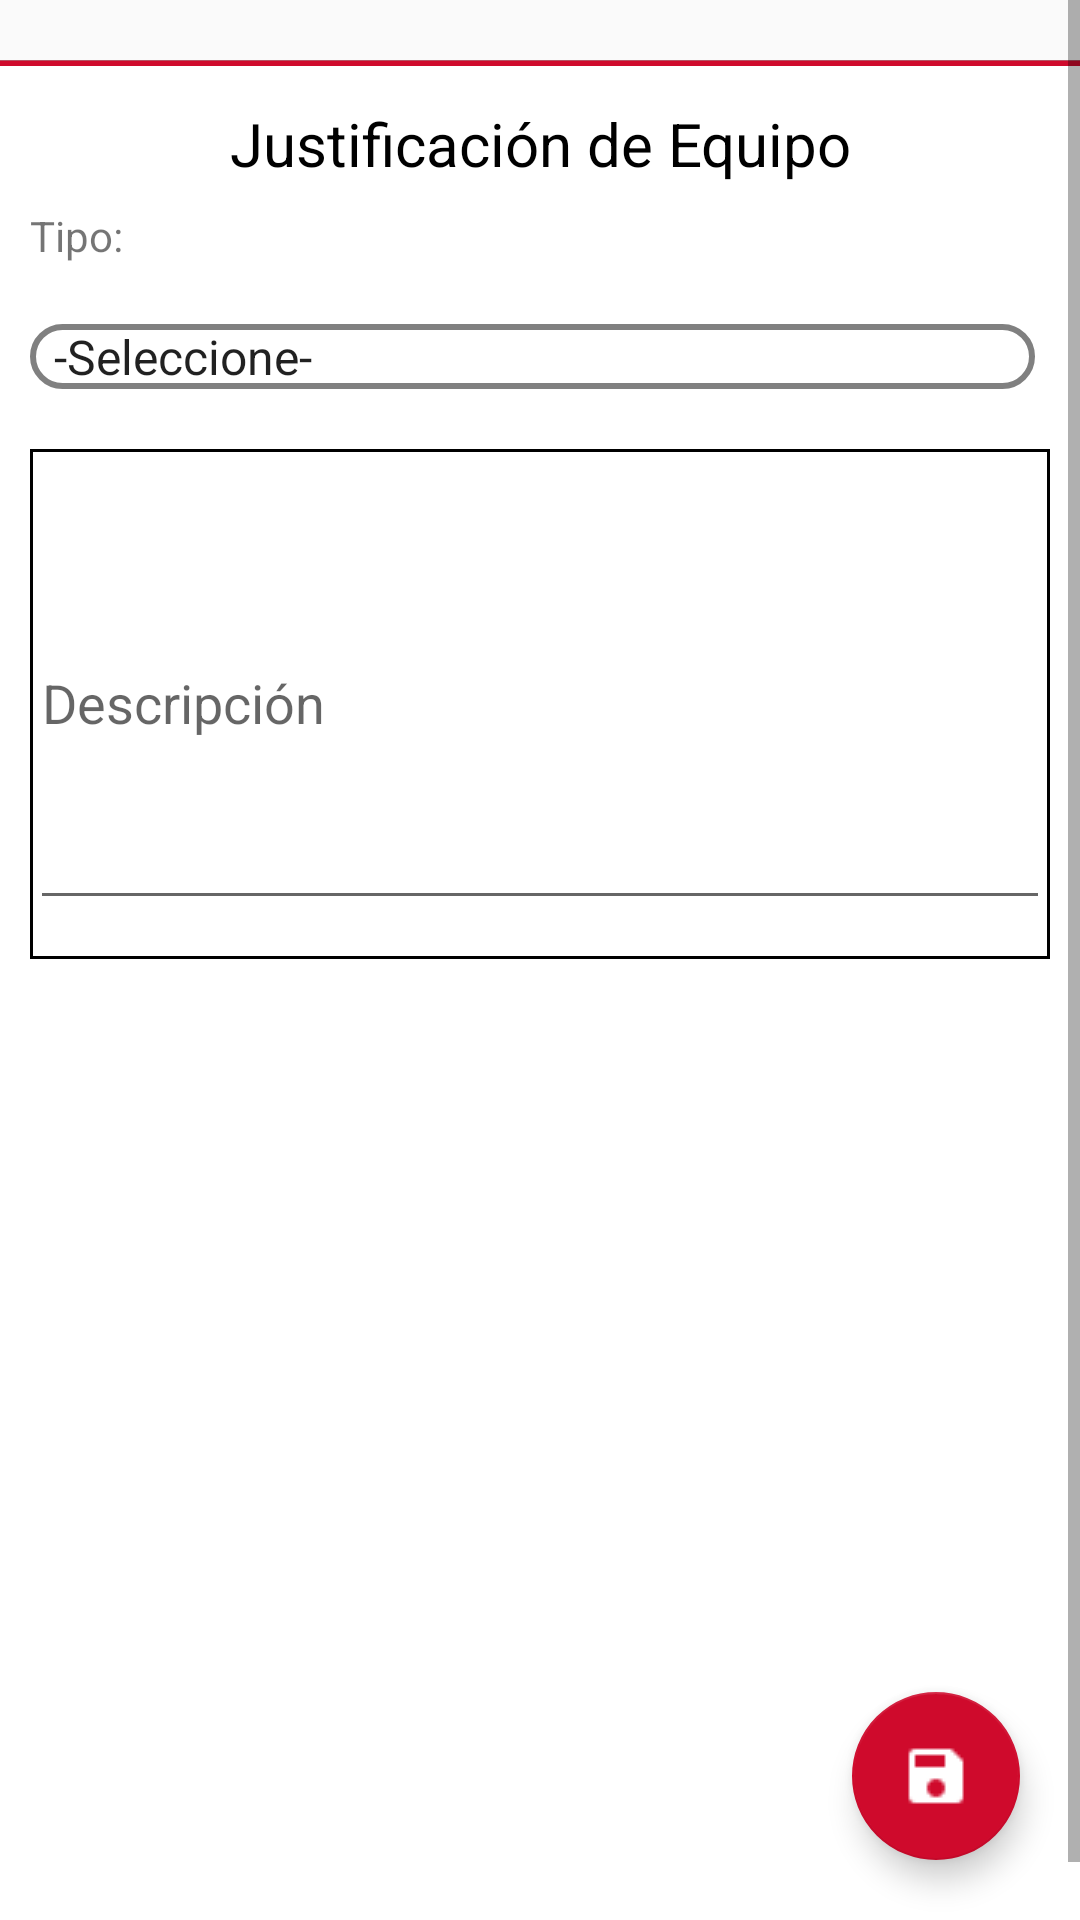

Named icons in this screenshot (1080x1920) and their bounding boxes, (x1, y1, x2, y2):
save: (852, 1692, 1020, 1860)
